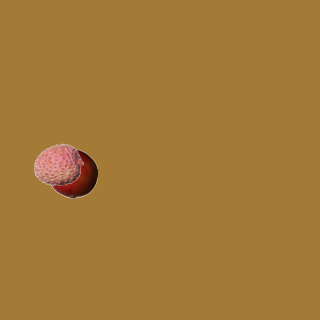Apple Braeburn: (47, 148, 97, 198)
Lychee: (33, 139, 83, 189)
